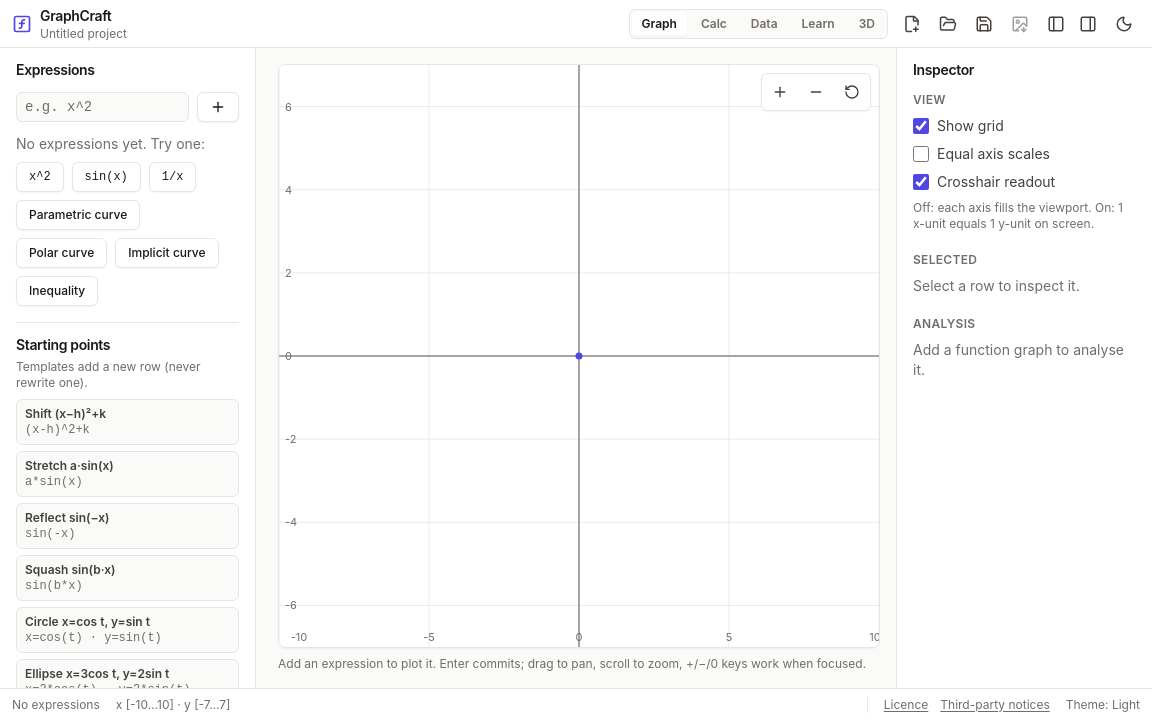
practice mode › works keyboard-only and rejects a wrong choice with the explanation
The width and height of the screenshot is (1152, 720).
Click the button with aria-label "Show learn library".
click(818, 24)  # box [792, 12, 845, 36]
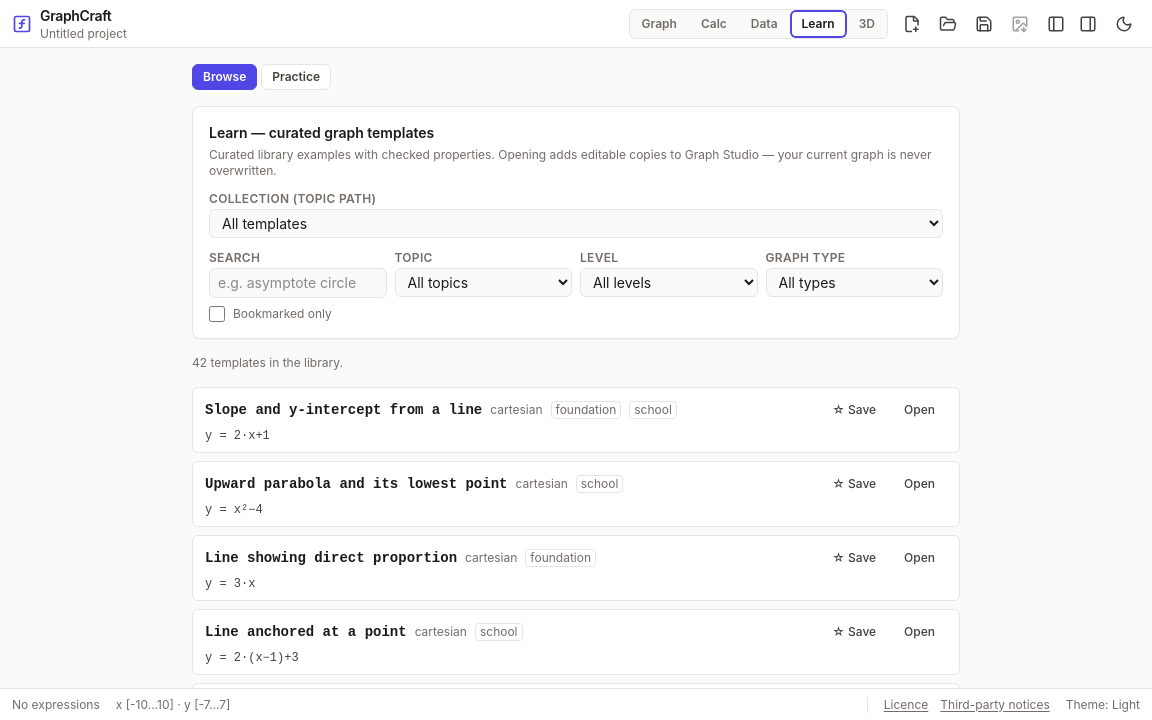
Check: the element "Learn" is shown
Check: the element named "Learn section" is shown, box [192, 64, 331, 90]
Click the button with aria-label "Learn practice".
click(296, 77)  # box [261, 64, 331, 90]
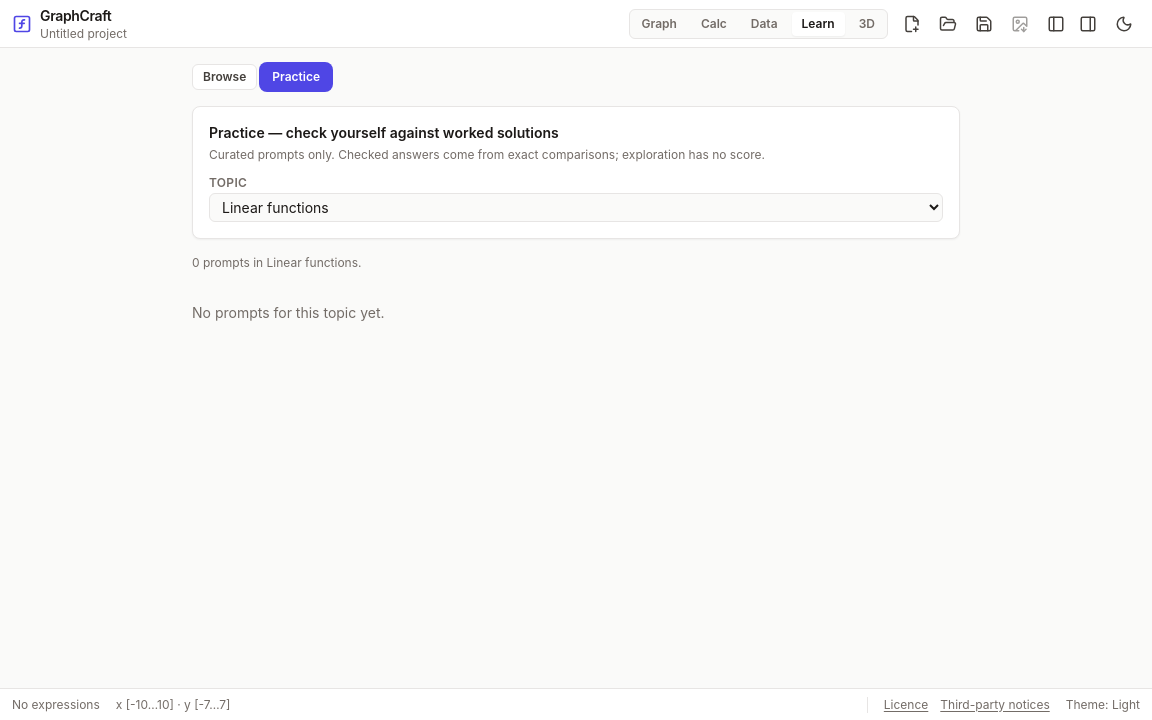
Check: the dropdown named "Practice topic" is shown
Select "Quadratics" in the dropdown named "Practice topic" at {"x": 576, "y": 208}, box [209, 193, 943, 222]
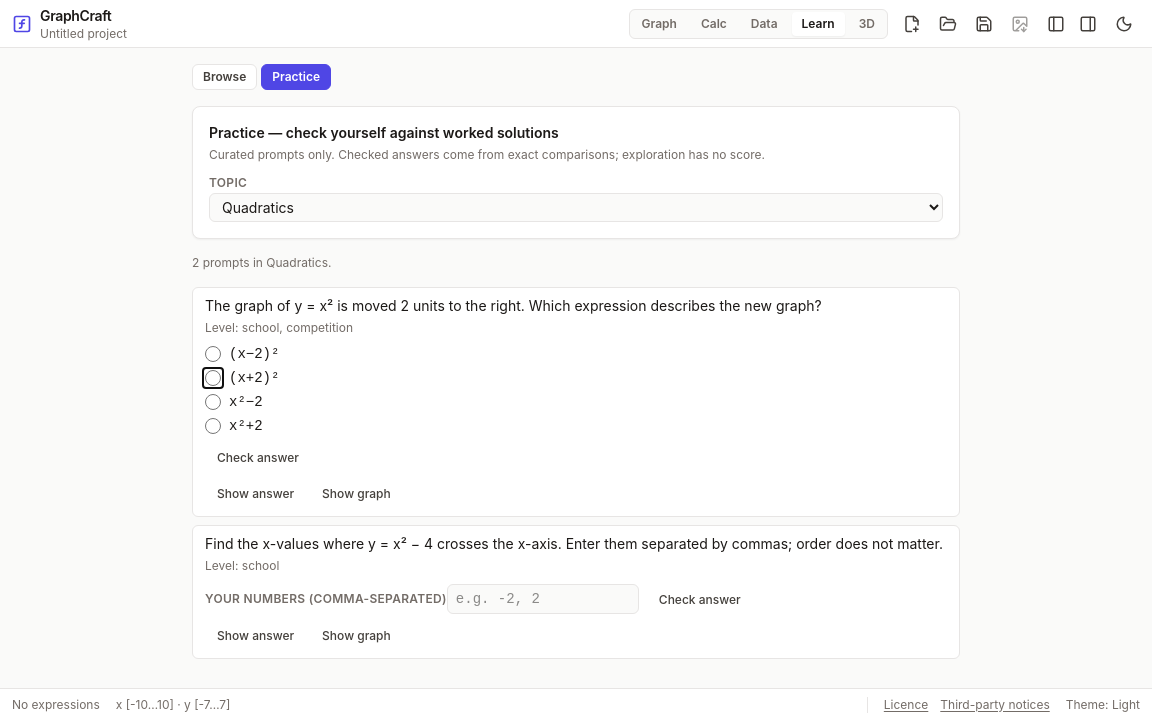
Type keys " "
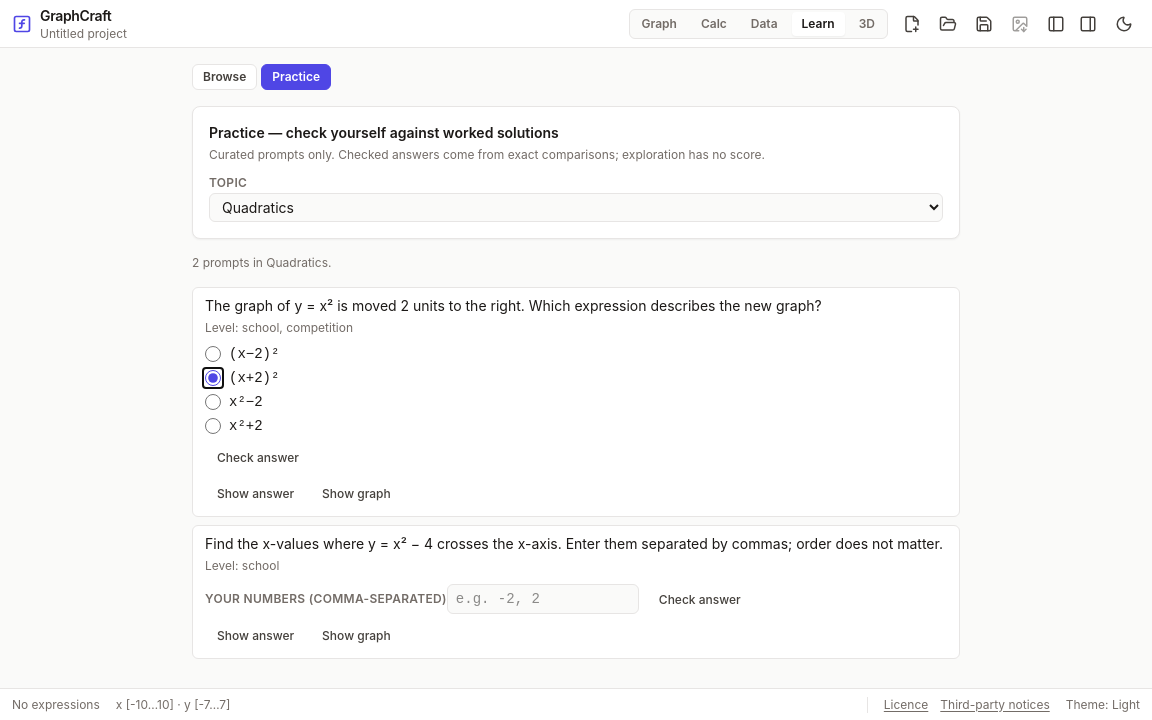
Check: the radio button labelled "(x+2)²" is checked, box [205, 370, 221, 386]
Press Tab
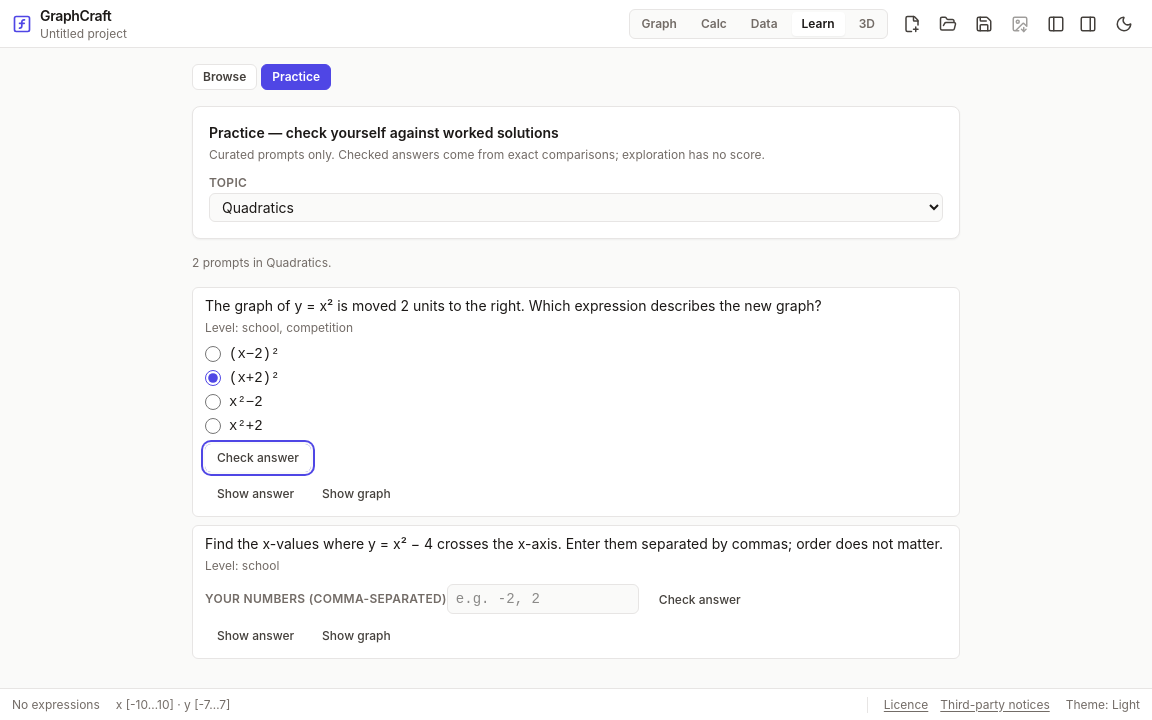
Press Enter
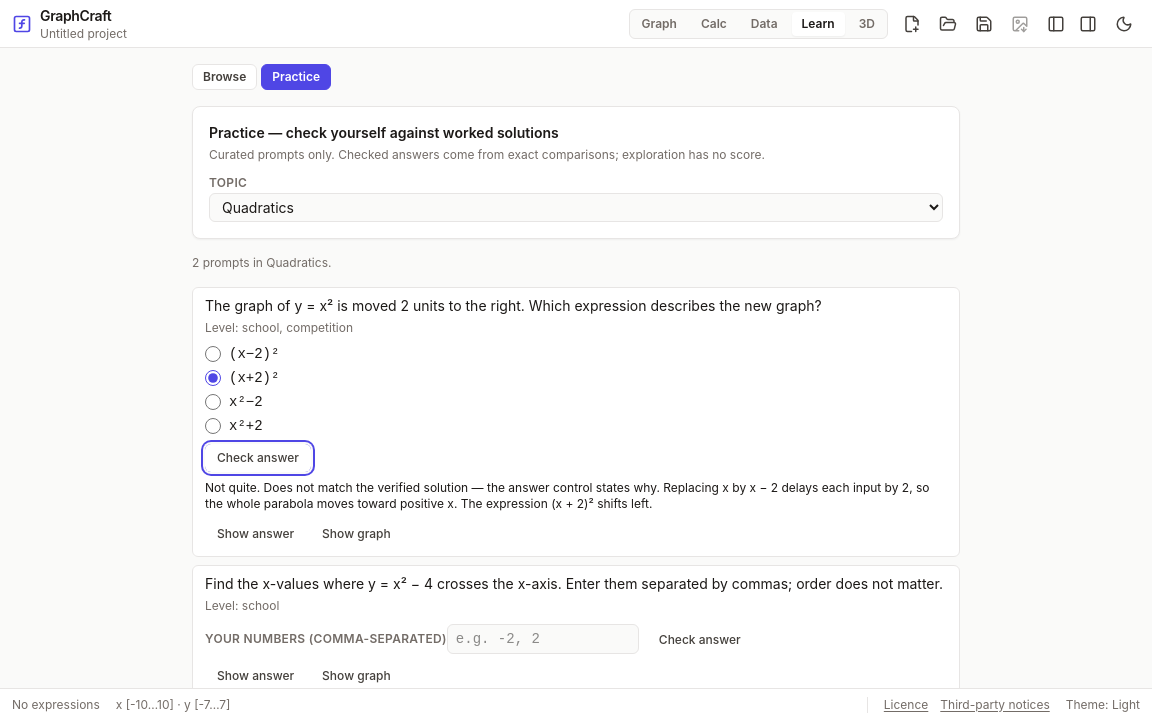
Check: the message named "Practice feedback" shows "Not quite.", box [205, 480, 930, 511]
Check: the message named "Practice feedback" shows "shifts left", box [205, 480, 930, 511]
